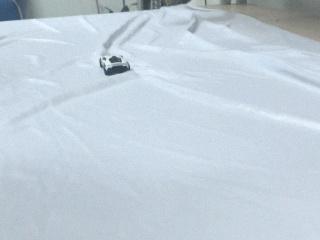toy_car: (99, 55, 130, 76)
